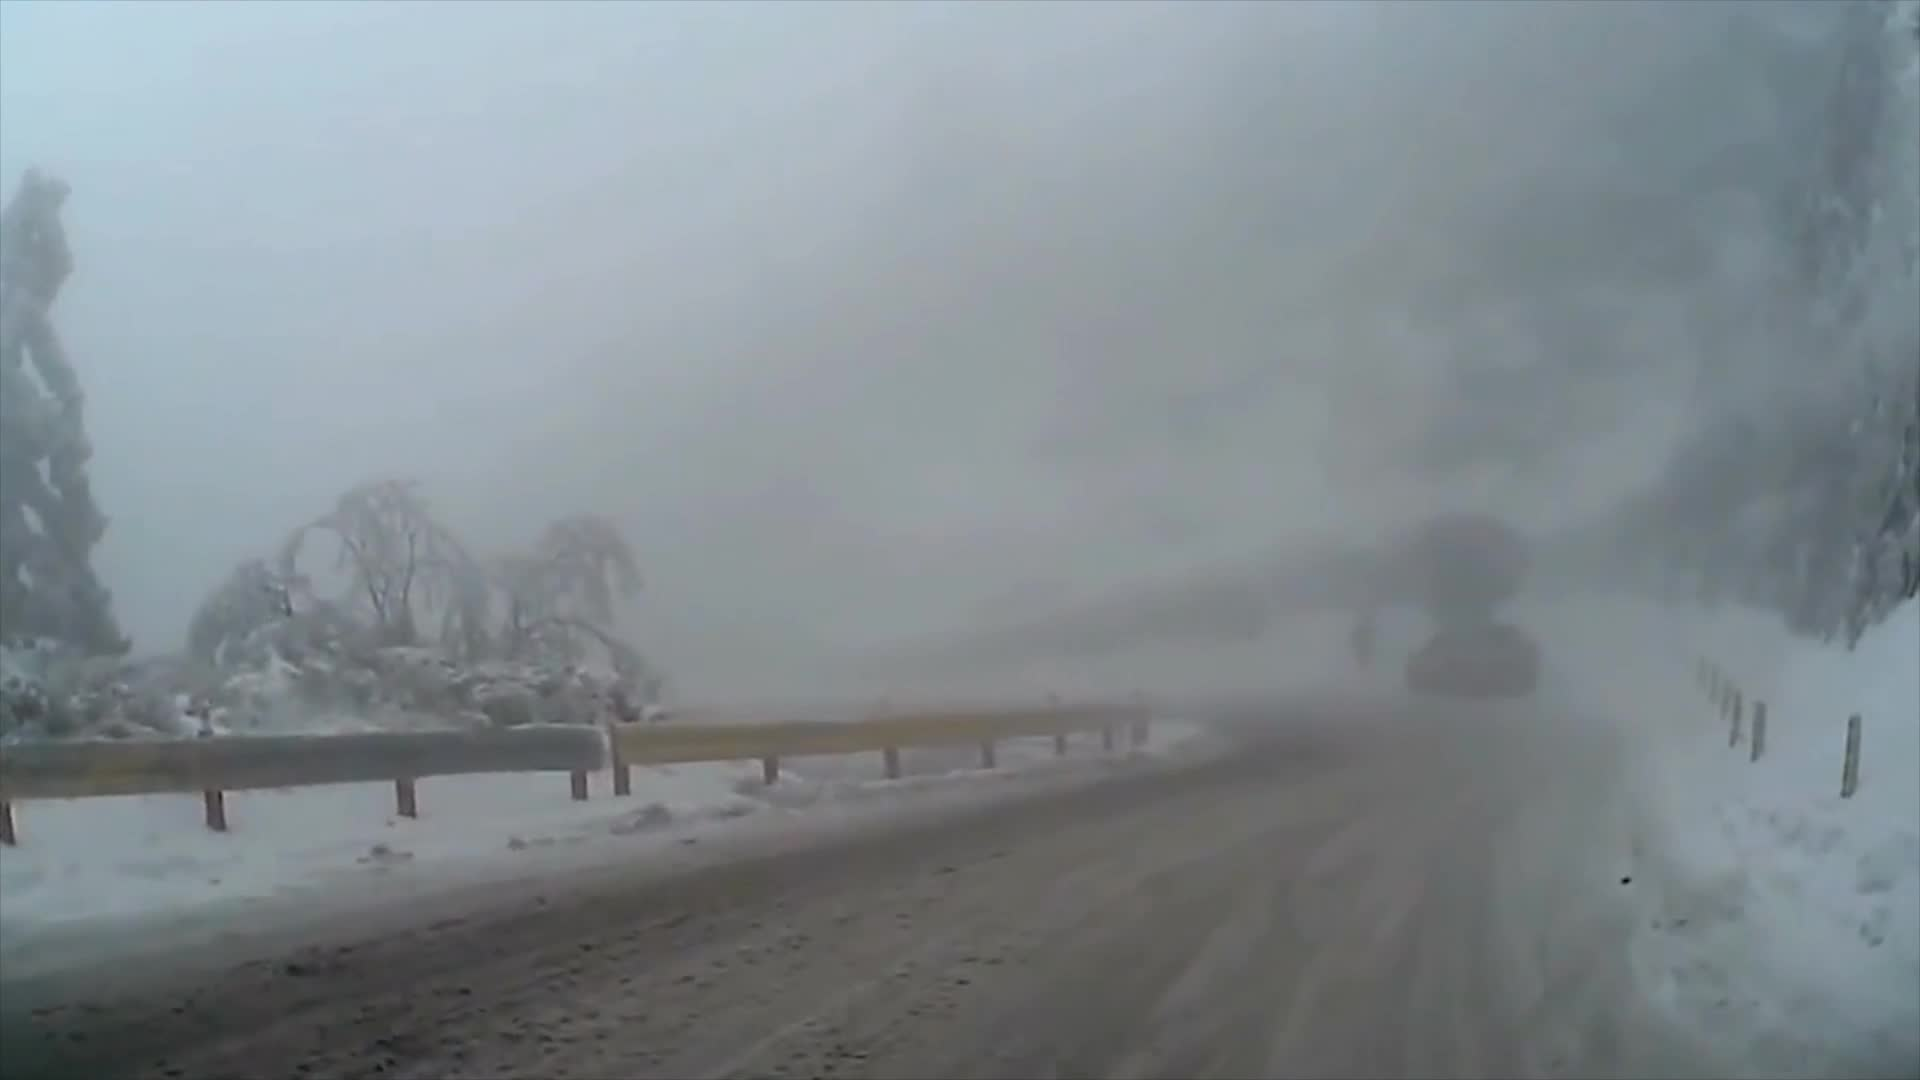vehicle: (1402, 622, 1539, 698)
